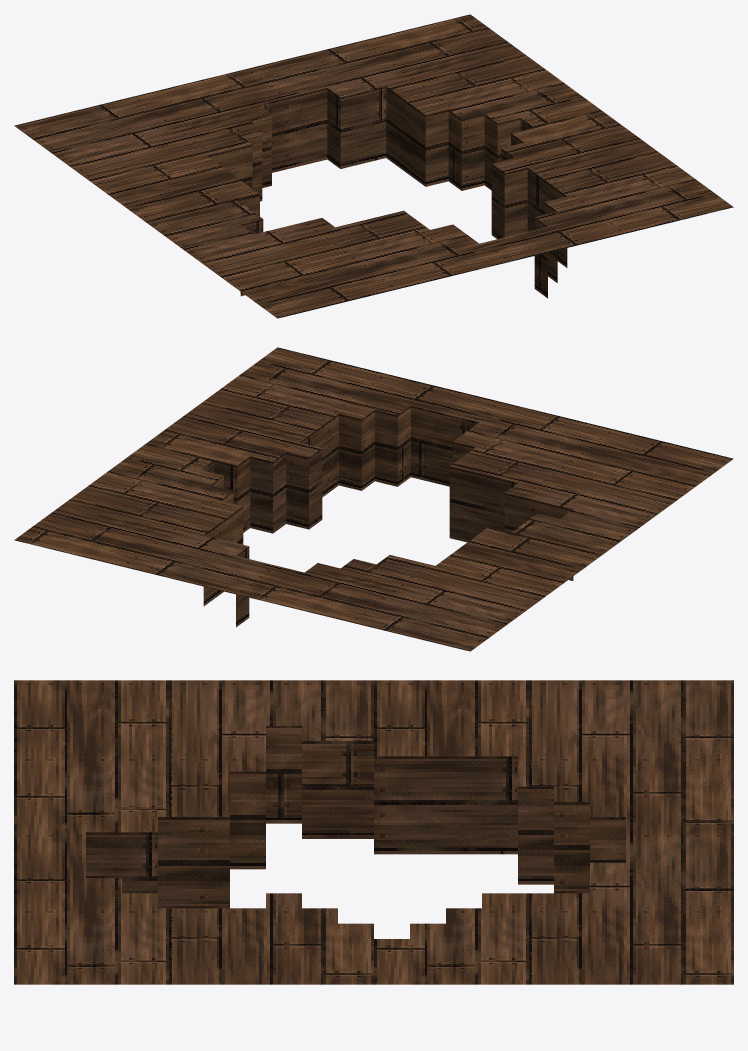
The model's file is house_floor_hole.glb.
The picture shows the model from 3 angles, top to bottom: view 1: azimuth 30°, elevation 25°; view 2: azimuth 150°, elevation 25°; view 3: azimuth 270°, elevation 25°; orthographic projection. The views are drawn at different scales.
Visible parts, largest first — view 1: house_floor_hole; view 2: house_floor_hole; view 3: house_floor_hole.
Part boxes in pixels (x1=…): house_floor_hole: x1=14, y1=14, x2=733, y2=318; house_floor_hole: x1=14, y1=347, x2=733, y2=651; house_floor_hole: x1=14, y1=680, x2=733, y2=984.
Bounding box in the file's own units: 2 × 0.3 × 2.
Materials: 1 (1 with a texture image).
